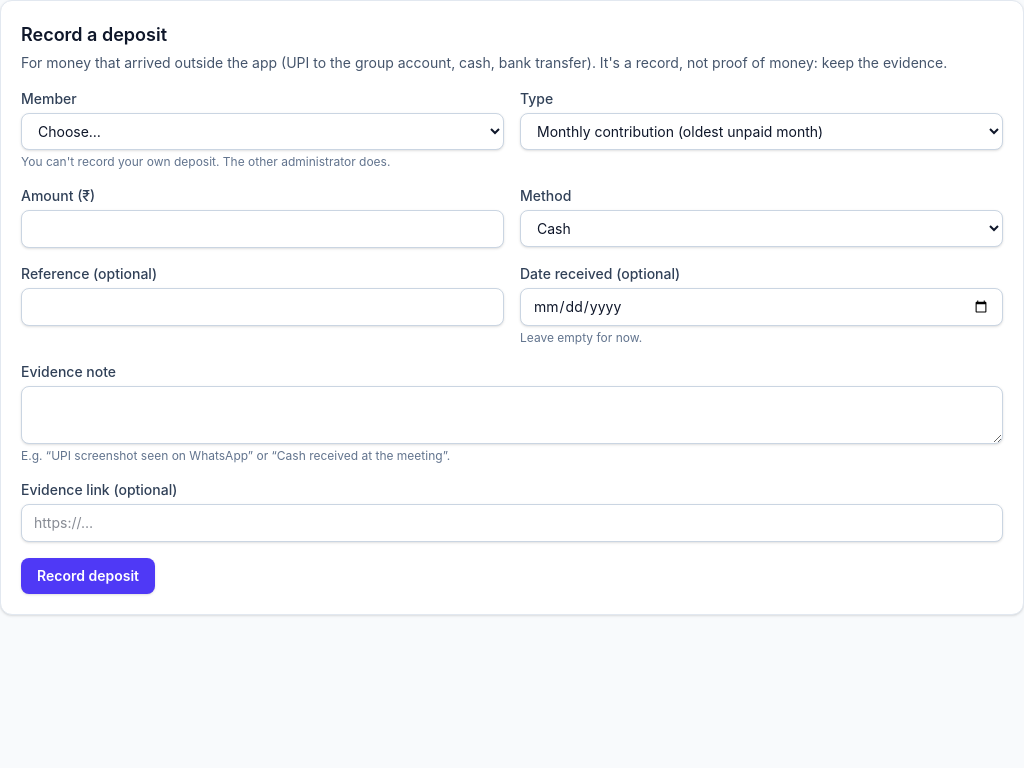
Test: ManualDepositCard › a non-cash deposit needs the bank's transaction reference
The image size is (1024, 768).
Select "Rahul" in the dropdown labelled "Member" at point(262, 132), box [21,113,504,150]
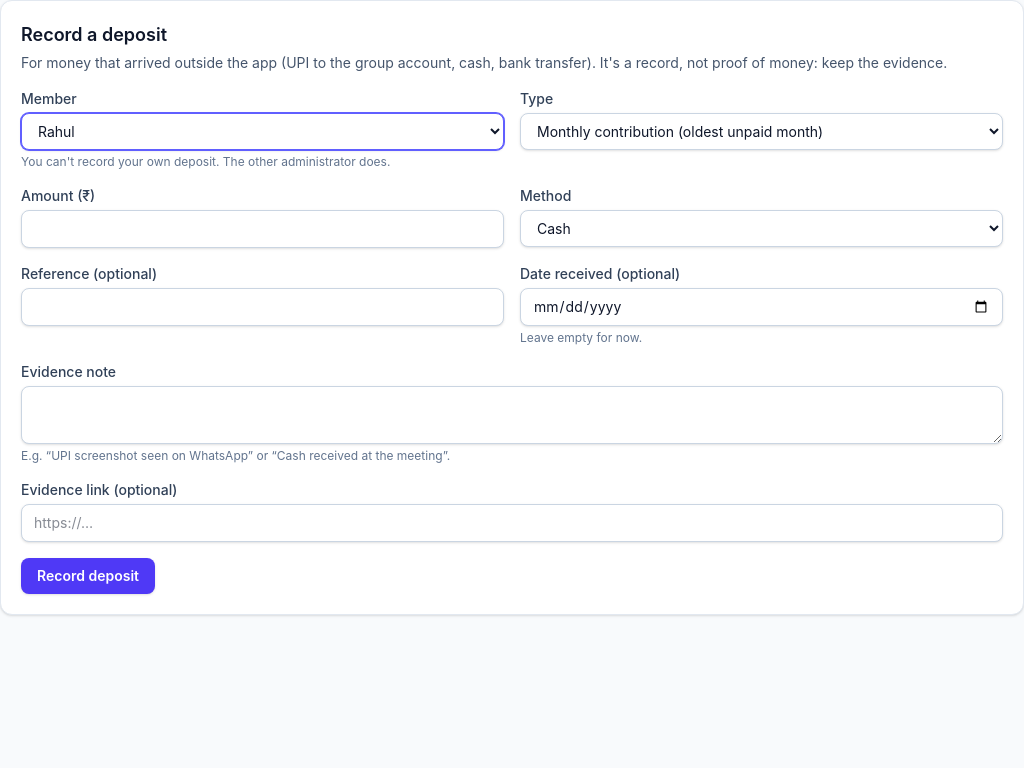
Select "UPI" in the dropdown labelled "Method" at point(762, 228), box [520,210,1003,247]
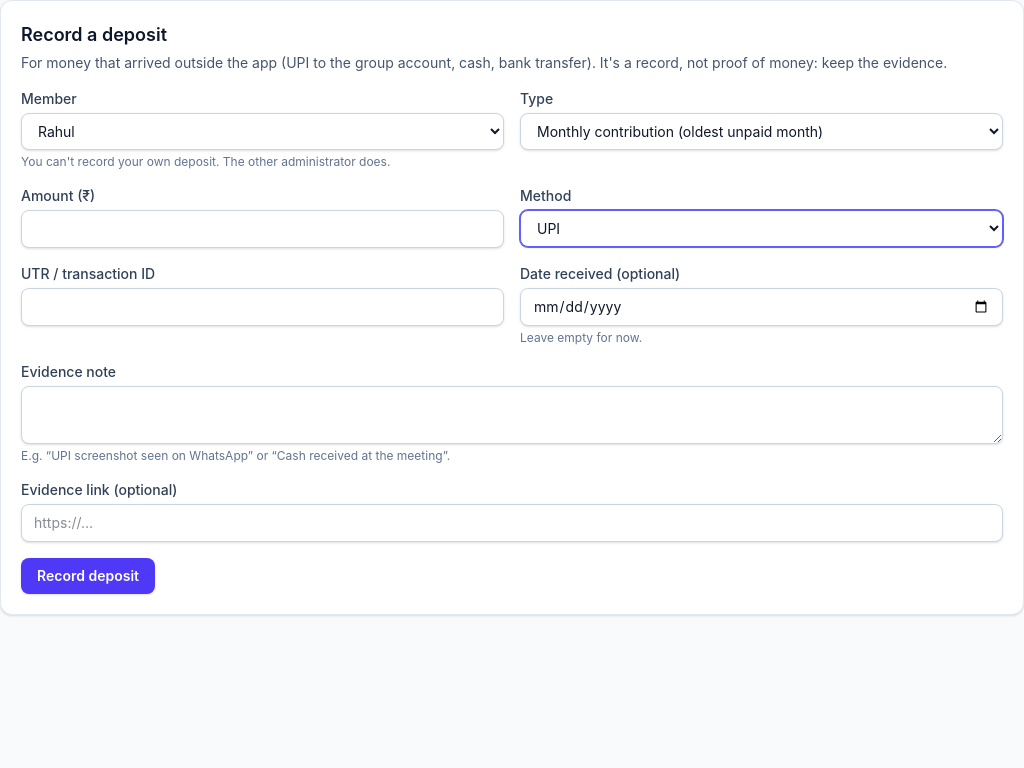
Type "200" into the field labelled "Amount (₹)" at point(262, 229), box [21,210,504,248]
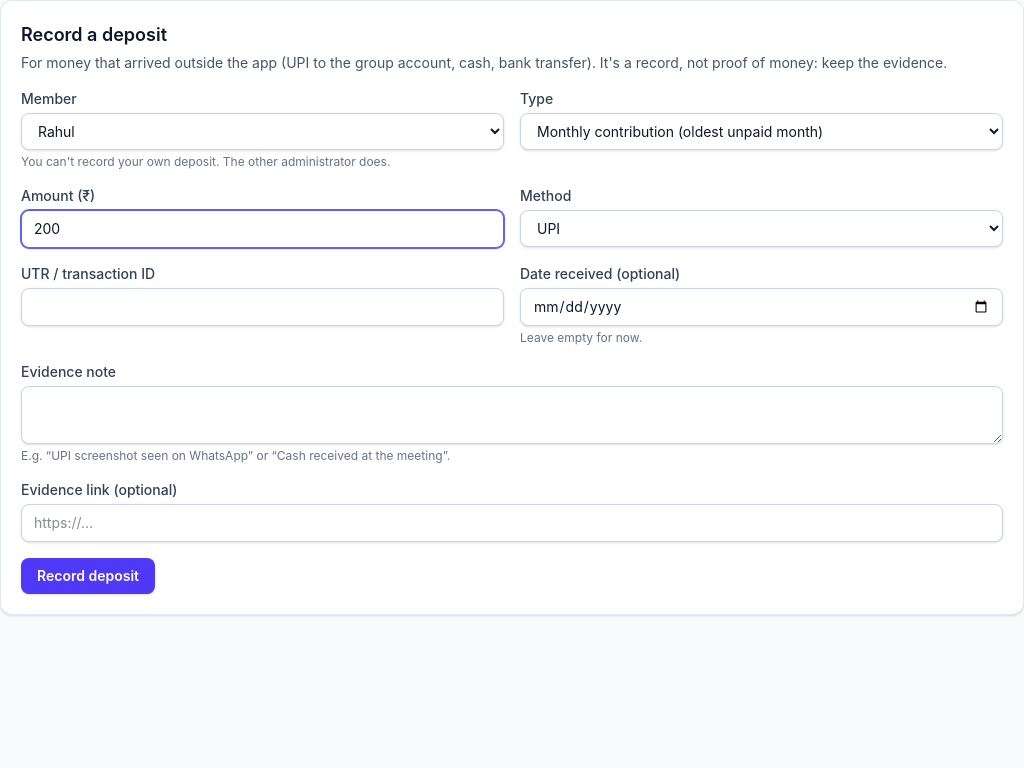
Type "Cash received at the meeting" into the text box labelled "Evidence note" at point(512, 415), box [21,386,1003,444]
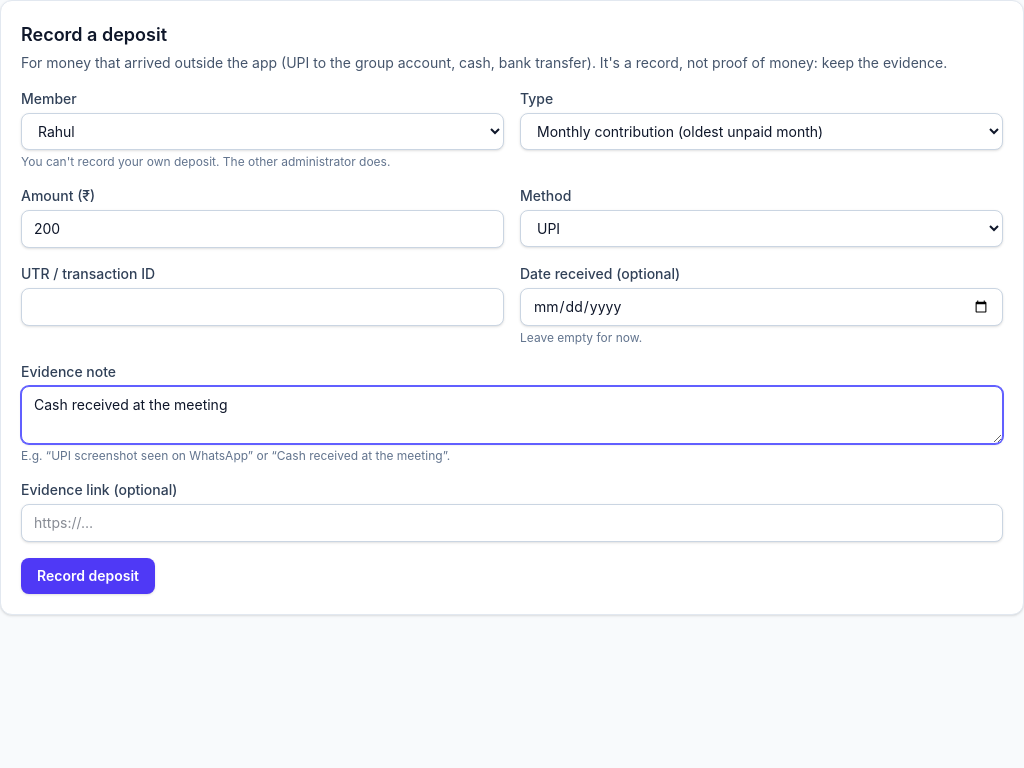
Click the button "Record deposit" at point(88, 576), box [21,558,155,594]
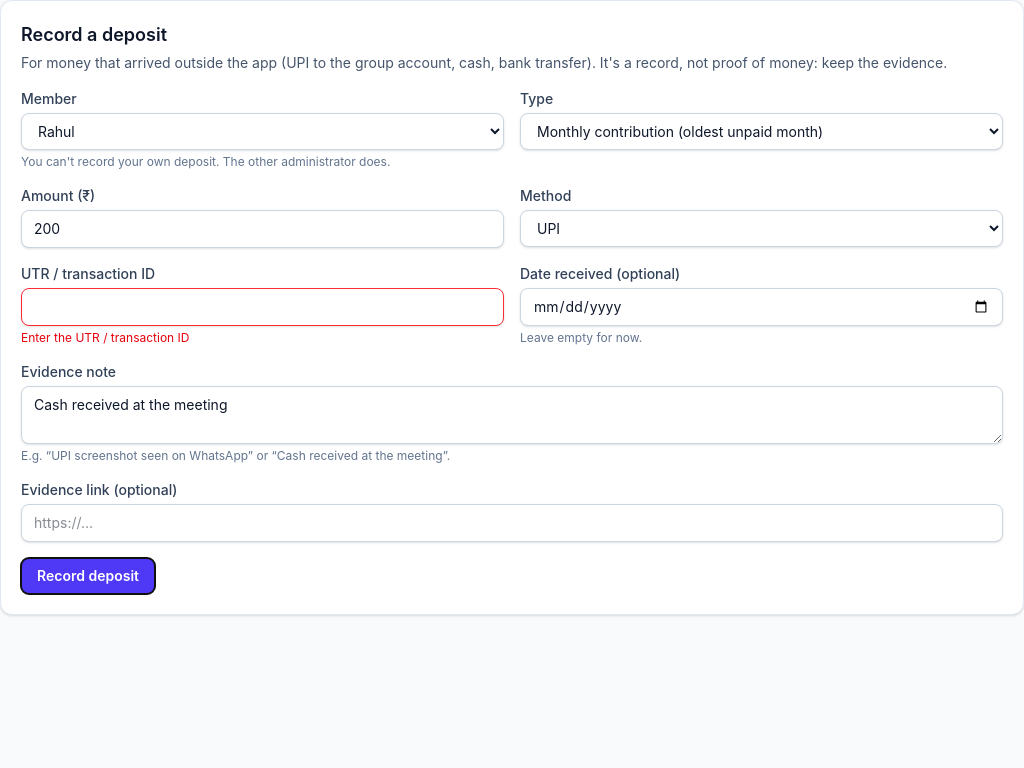
expect the text "Enter the UTR / transaction ID" is shown: met, box [21,330,190,345]
